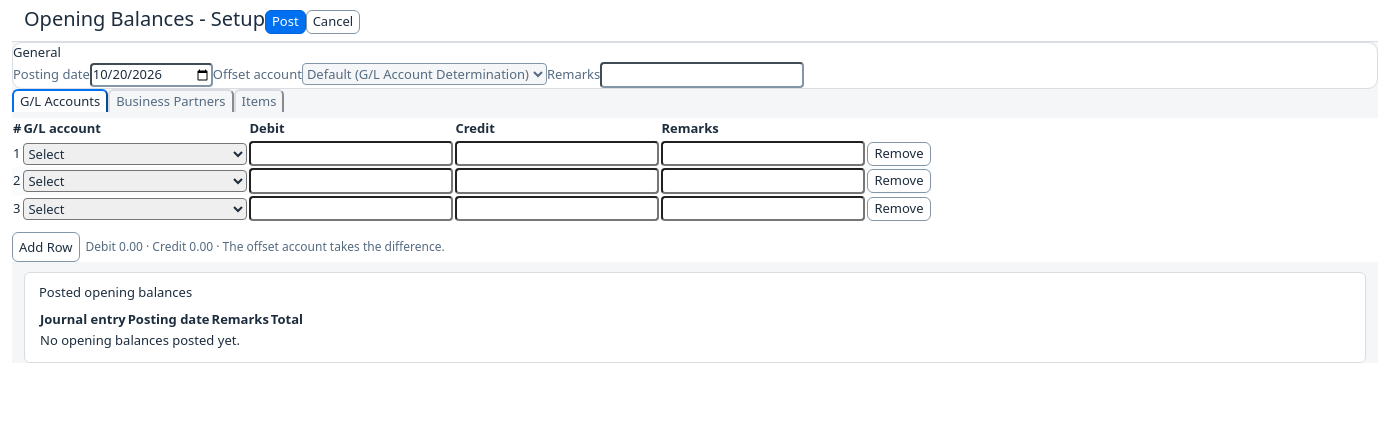
Test case: Opening Balances page › shows server errors as an alert
The width and height of the screenshot is (1378, 427).
Select "100000 - Cash" in the dropdown named "G/L account row 1": (135, 154) [23,142,247,164]
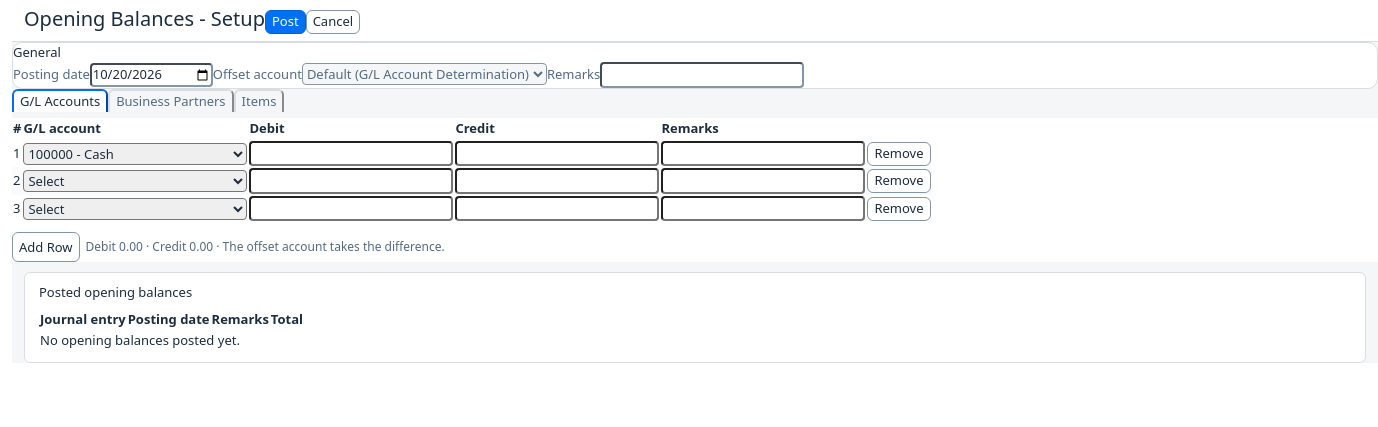
Click the button "Post": click(285, 22) [265,10,306,34]
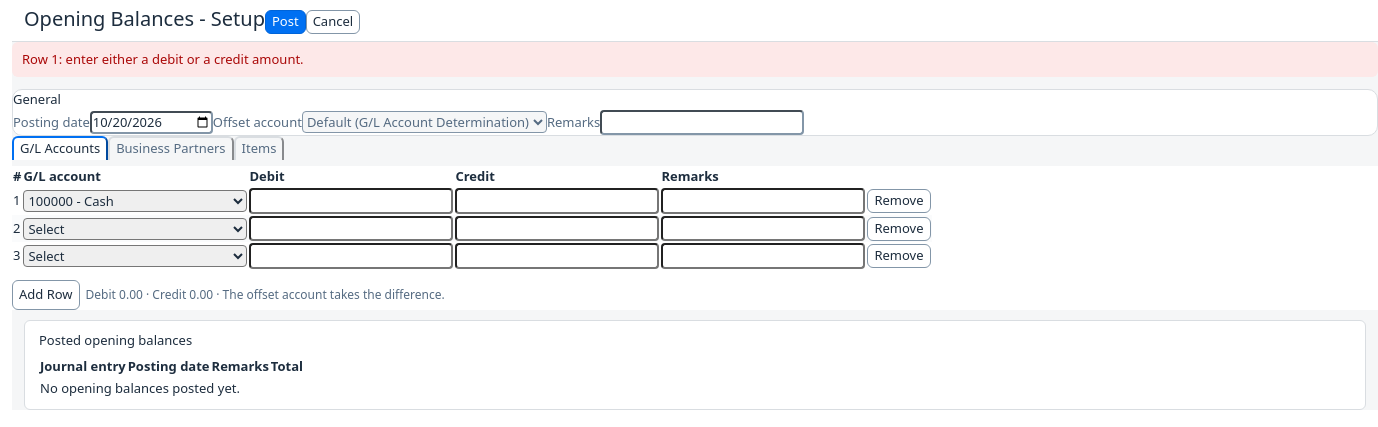
Expected: the message reads "Row 1: enter either a debit or a credit amount.", [22,50,304,68]
